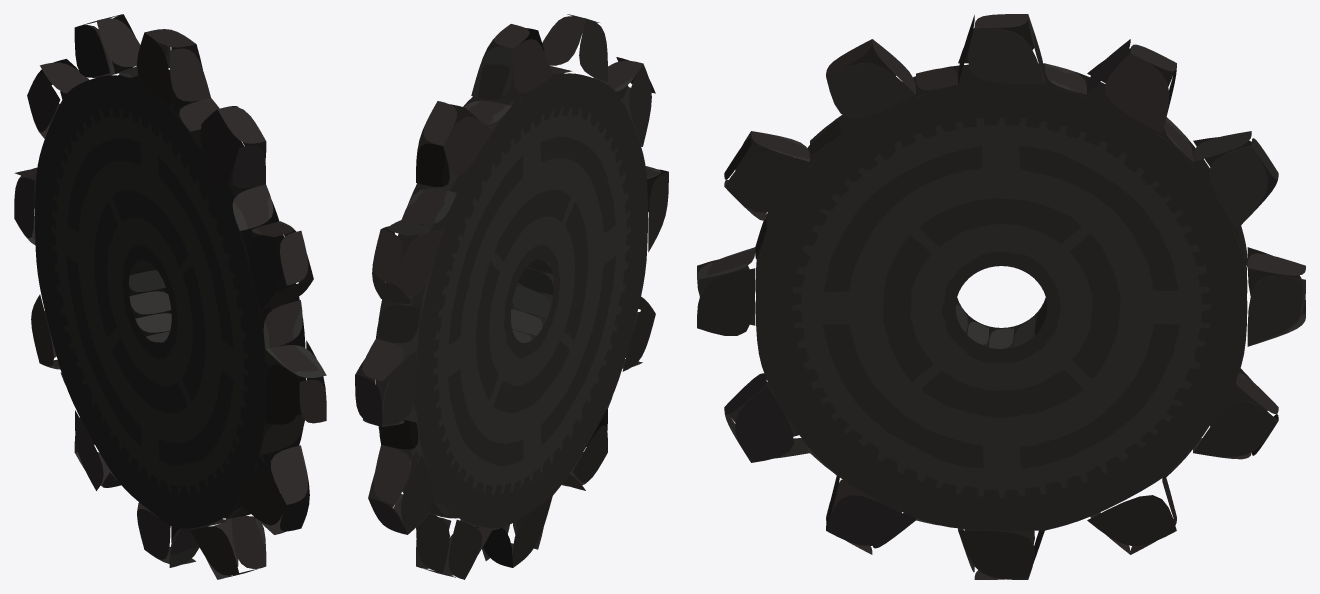
The model's file is EngraneAcomodado.fbx.
3 renders of one model, left to right at view 1: azimuth 30°, elevation 25°; view 2: azimuth 150°, elevation 25°; view 3: azimuth 270°, elevation 25°, orthographic. The views are drawn at different scales.
Visible parts, largest first — view 1: GearLowPoly; view 2: GearLowPoly; view 3: GearLowPoly.
Boxes of the visible parts, left/top/right/bottom form: GearLowPoly: left=14, top=14, right=326, bottom=579; GearLowPoly: left=355, top=14, right=668, bottom=579; GearLowPoly: left=697, top=14, right=1305, bottom=579.
Bounding box in the file's own units: 0.3489 × 4.25 × 4.25.
Materials: 1 (1 with a texture image).
